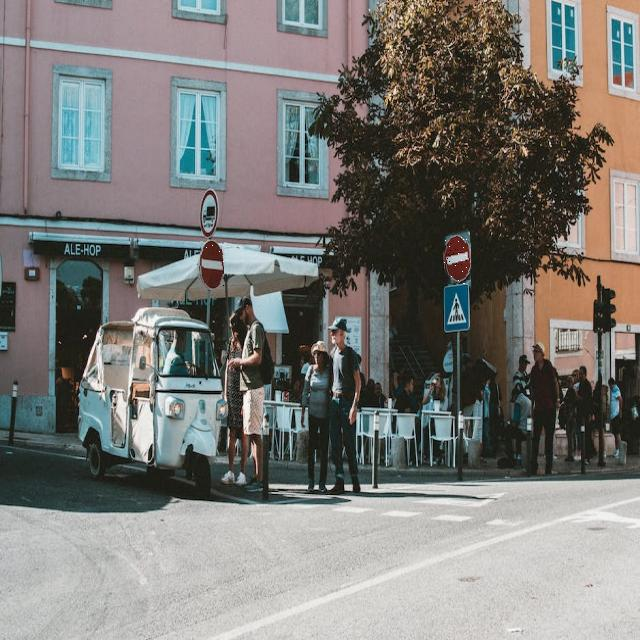no entry: (443, 235, 471, 284), (198, 240, 224, 289)
